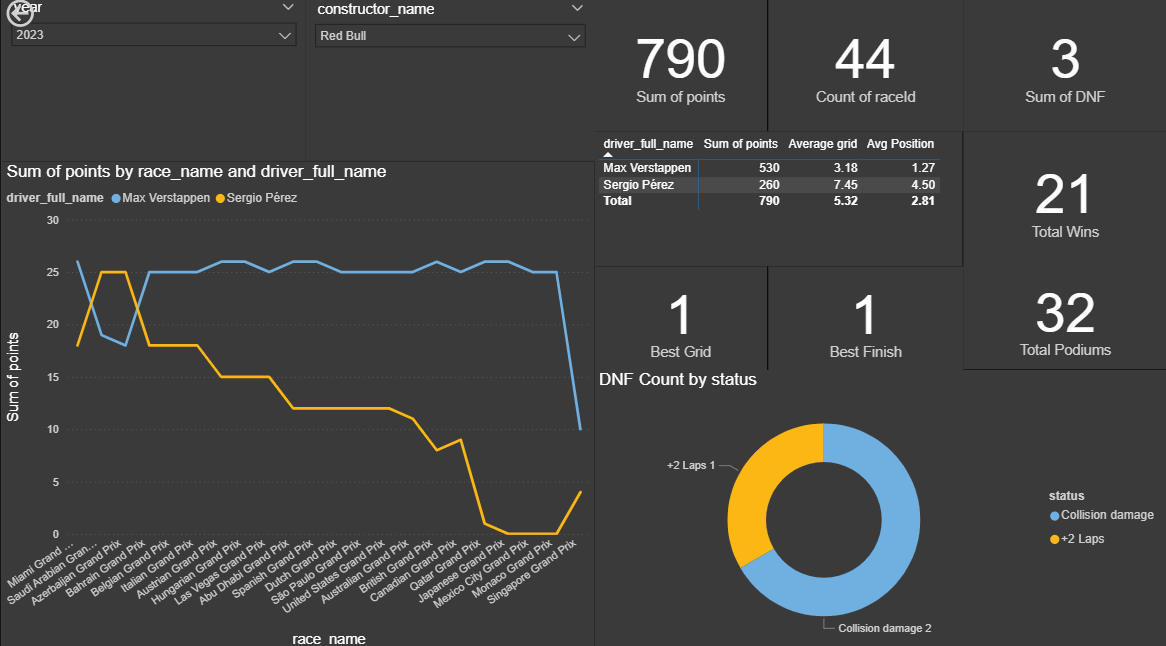

What the dashboard file says about the page in this screenshot:
{"tool":"powerbi","page":{"name":"Hall Of Fame","canvas":[1280,720],"ordinal":0},"visuals":[{"type":"slicer","fields":{"Values":["f1_master_data.year"]},"box":[0,0,333.3,182.6],"z":0},{"type":"slicer","fields":{"Values":["f1_master_data.constructor_name"]},"box":[333.3,1.4,317.4,181.2],"z":1000},{"type":"card","fields":{"Values":["Sum(f1_master_data.points)"]},"box":[650.7,0,189.9,149.3],"z":2000},{"type":"lineChart","fields":{"Category":["f1_master_data.race_name"],"Y":["Sum(f1_master_data.points)"],"Series":["f1_master_data.driver_full_name"]},"box":[0,182.6,650.7,537.7],"z":3000},{"type":"pivotTable","fields":{"Rows":["f1_master_data.driver_full_name"],"Values":["Sum(f1_master_data.points)","Avg(f1_master_data.grid)","Avg(f1_master_data.position_numeric)"]},"box":[650.7,149.3,404.3,147.8],"z":4000},{"type":"card","fields":{"Values":["CountNonNull(f1_master_data.raceId)"]},"box":[840.6,0,214.5,149.3],"z":5000},{"type":"card","fields":{"Values":["Sum(f1_master_data.is_DNF)"]},"box":[1055.1,0,224.6,149.3],"z":6000},{"type":"card","fields":{"Values":["f1_master_data.Total Wins"]},"box":[1055.1,149.3,224.6,146.4],"z":7000},{"type":"card","fields":{"Values":["f1_master_data.Total Podiums"]},"box":[1055.1,295.7,224.6,115.9],"z":8000},{"type":"card","fields":{"Values":["f1_master_data.Best Finish"]},"box":[840.6,297.1,214.5,114.5],"z":9000},{"type":"card","fields":{"Values":["f1_master_data.Best Grid"]},"box":[650.7,297.1,189.9,114.5],"z":10000},{"type":"donutChart","fields":{"Category":["f1_master_data.status"],"Y":["f1_master_data.DNF Count"]},"box":[650.7,411.6,629,308.7],"z":11000},{"type":"actionButton","box":[0,0,100,40],"z":12000}]}

Visuals, with their boxes in screenshot pixels (x1, y1, x2, y2), scaled from the page's 1280x720 canvas onto the 1166x646 screenshot:
slicer - f1_master_data.year: <bbox>0, 0, 304, 164</bbox>
slicer - f1_master_data.constructor_name: <bbox>304, 1, 593, 164</bbox>
card - Sum(f1_master_data.points): <bbox>593, 0, 766, 134</bbox>
lineChart - f1_master_data.race_name x Sum(f1_master_data.points): <bbox>0, 164, 593, 645</bbox>
pivotTable - f1_master_data.driver_full_name x Sum(f1_master_data.points): <bbox>593, 134, 961, 267</bbox>
card - CountNonNull(f1_master_data.raceId): <bbox>766, 0, 961, 134</bbox>
card - Sum(f1_master_data.is_DNF): <bbox>961, 0, 1165, 134</bbox>
card - f1_master_data.Total Wins: <bbox>961, 134, 1165, 265</bbox>
card - f1_master_data.Total Podiums: <bbox>961, 265, 1165, 369</bbox>
card - f1_master_data.Best Finish: <bbox>766, 267, 961, 369</bbox>
card - f1_master_data.Best Grid: <bbox>593, 267, 766, 369</bbox>
donutChart - f1_master_data.status x f1_master_data.DNF Count: <bbox>593, 369, 1165, 645</bbox>
actionButton: <bbox>0, 0, 91, 36</bbox>
